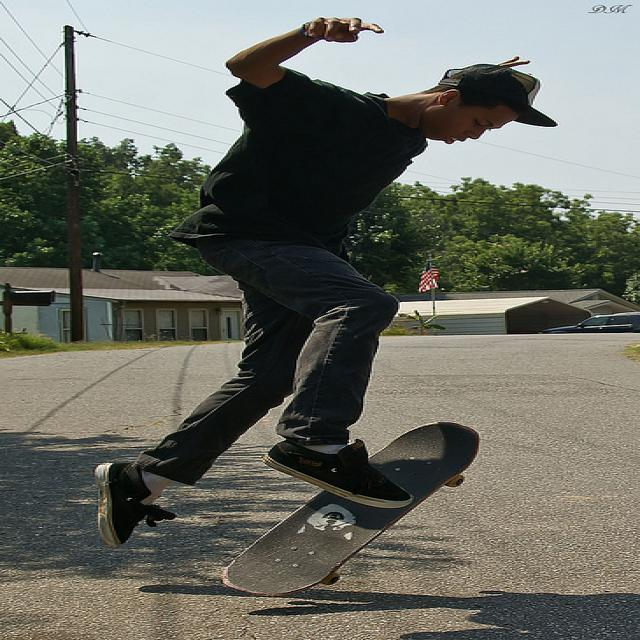Vehicle: (539, 312, 640, 334)
